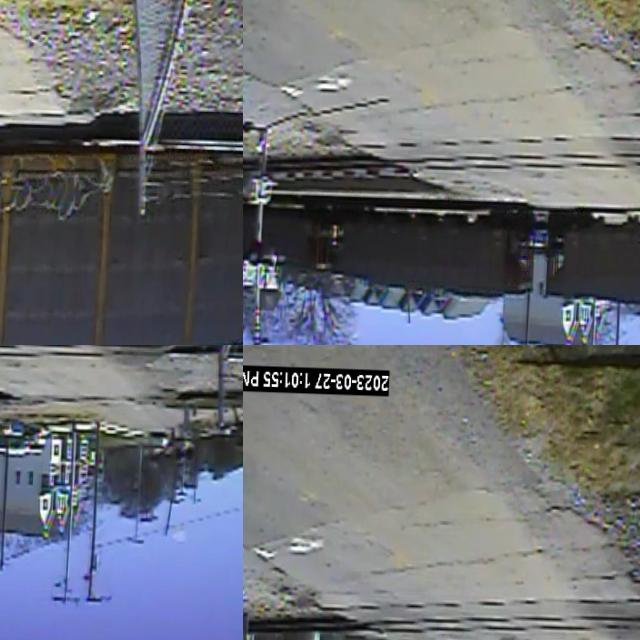barrier: (0, 476, 26, 640), (154, 447, 178, 558)
barrier-closed: (262, 156, 424, 197), (0, 131, 75, 167)
car: (149, 430, 167, 460)
person: (167, 426, 177, 450)
rails: (243, 124, 640, 199), (243, 589, 640, 640), (0, 377, 243, 429), (0, 345, 243, 391)
traffic-signal: (243, 121, 290, 285), (0, 106, 32, 258), (0, 345, 28, 475), (167, 393, 203, 467)
train: (243, 182, 640, 320), (0, 130, 243, 345)
